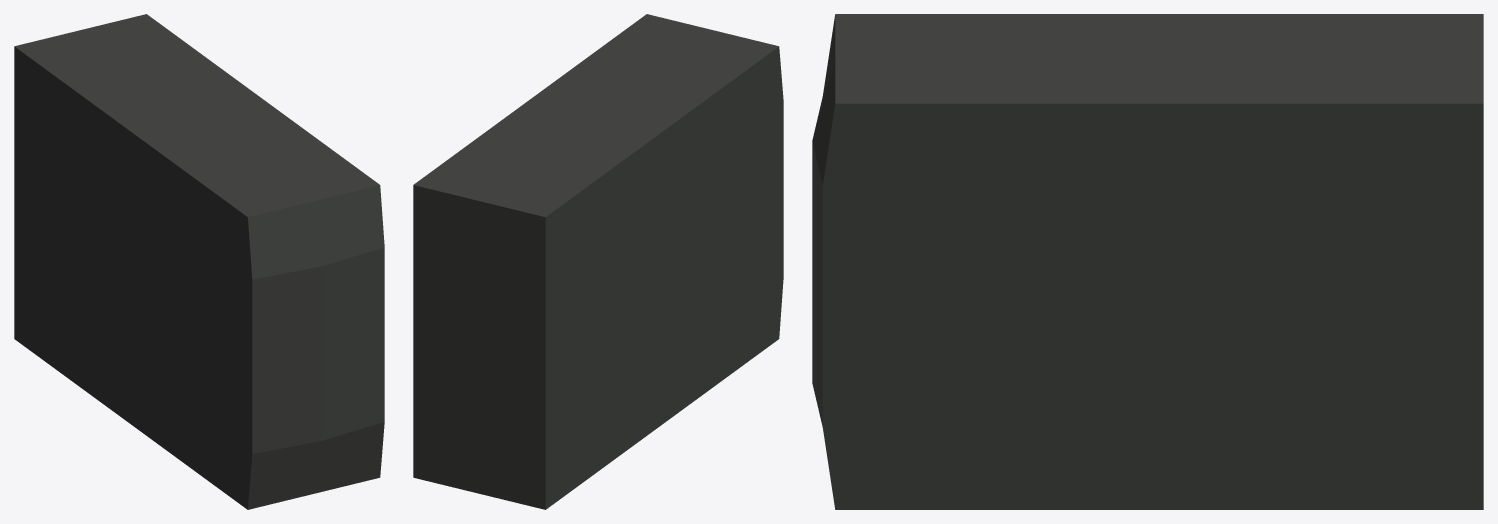
Rendered from hard_computer_2.fbx.
The picture shows the model from 3 angles, left to right: view 1: azimuth 30°, elevation 25°; view 2: azimuth 150°, elevation 25°; view 3: azimuth 270°, elevation 25°; orthographic projection. The views are drawn at different scales.
Visible parts, largest first — view 1: hard_computer_2; view 2: hard_computer_2; view 3: hard_computer_2.
Boxes of the visible parts, x1,y1,x2,y2 form: hard_computer_2: (14,14,384,509); hard_computer_2: (413,14,783,509); hard_computer_2: (812,14,1483,509).
Size of the model in its own units: 0.8734 by 1.85 by 2.76.
